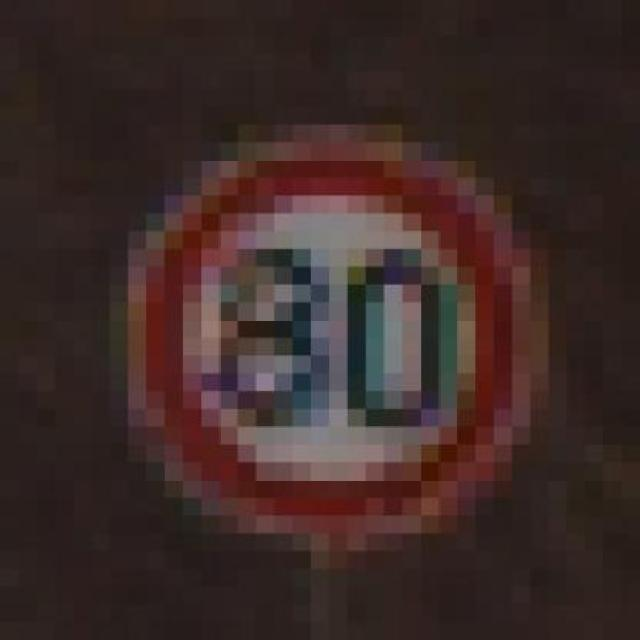forb_speed_over_80: (130, 148, 533, 529)
